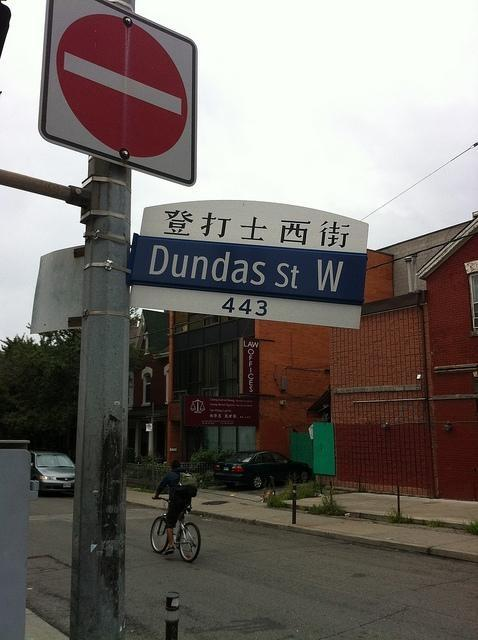bicycle: (151, 498, 202, 562)
car: (212, 450, 314, 490), (32, 451, 74, 496)
